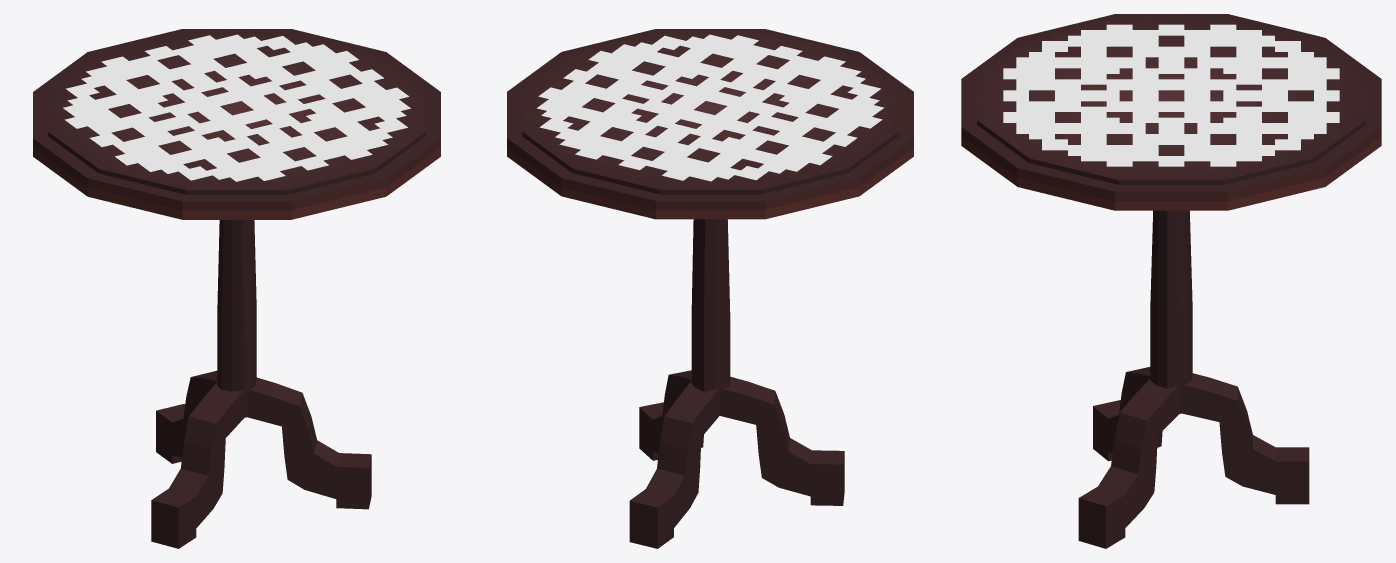
The model's file is old_table.gltf.
3 renders of one model, left to right at view 1: azimuth 30°, elevation 25°; view 2: azimuth 150°, elevation 25°; view 3: azimuth 270°, elevation 25°, orthographic. The views are drawn at different scales.
Visible parts, largest first — view 1: cube; view 2: cube; view 3: cube.
Part boxes in pixels (x1=…): cube: x1=33, y1=29, x2=440, y2=548; cube: x1=507, y1=29, x2=913, y2=548; cube: x1=961, y1=14, x2=1381, y2=548.
Bounding box in the file's own units: 1 × 1.05 × 1.
Materials: 2 (2 with a texture image).
